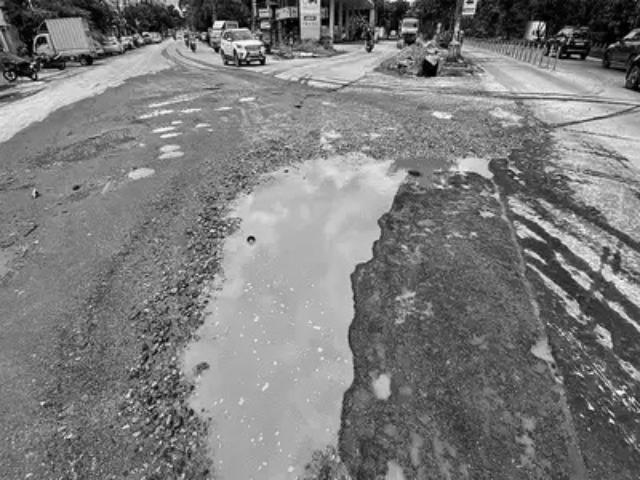Pothole: (156, 146, 464, 480), (30, 138, 140, 170), (138, 85, 226, 109), (0, 241, 24, 282), (173, 105, 237, 117), (135, 106, 171, 124), (148, 125, 182, 141), (428, 108, 456, 122), (237, 95, 259, 103)
